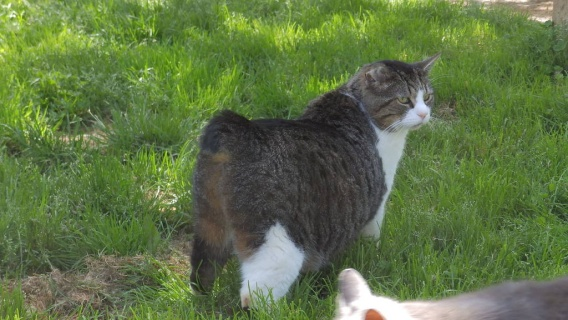Cat: (193, 53, 450, 313)
